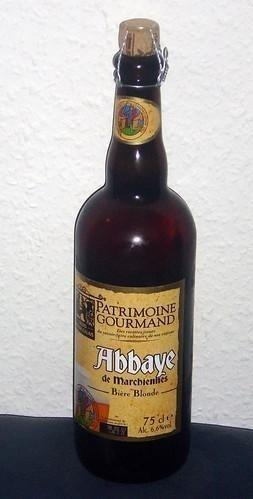bottle-glass: (69, 11, 200, 485)
